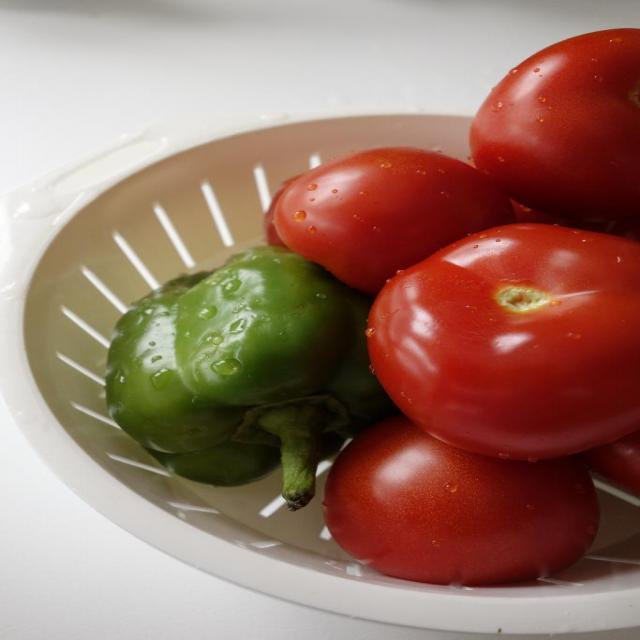Bell pepper: (109, 246, 395, 513)
